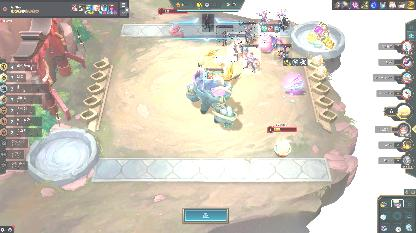1_idas: (200, 56, 230, 80)
1_sylas: (243, 44, 261, 74)
1_xayah: (216, 26, 234, 46)
1_zyra: (202, 14, 214, 32)
2_lulu: (274, 44, 292, 60)
2_lux: (278, 8, 290, 30)
2_nomsy: (258, 22, 280, 52)
2_rakan: (227, 32, 245, 62)
2_zyra: (238, 21, 256, 43), (258, 9, 270, 29)
